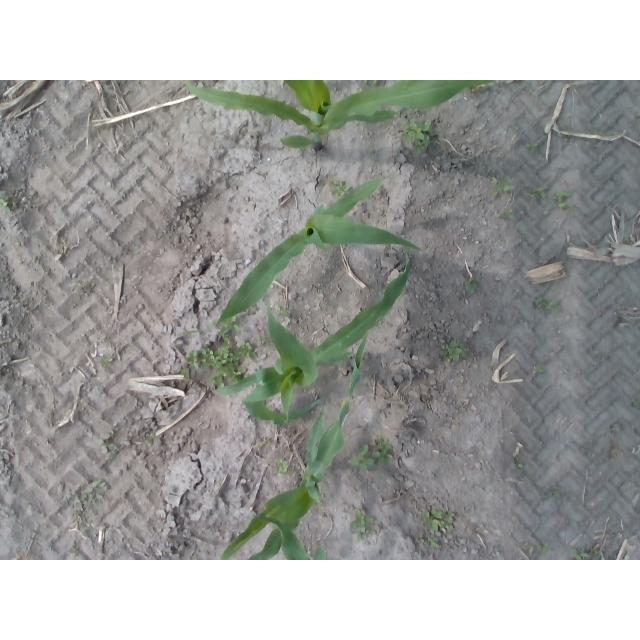Maize: (185, 176, 423, 333), (215, 254, 410, 427), (223, 334, 366, 560), (184, 80, 497, 153), (253, 514, 327, 560)
Weeds: (187, 341, 258, 388), (401, 117, 435, 155), (350, 508, 379, 542), (423, 508, 456, 532), (80, 477, 106, 507), (210, 315, 241, 340), (440, 341, 470, 364), (350, 445, 374, 472), (550, 189, 578, 211), (371, 438, 393, 466), (534, 297, 562, 314), (492, 177, 513, 199), (570, 548, 603, 560), (330, 179, 350, 197), (276, 457, 294, 476), (463, 277, 481, 295), (274, 304, 292, 322), (97, 439, 117, 454), (528, 185, 548, 199), (99, 355, 113, 370), (500, 208, 516, 221), (1, 196, 12, 213), (537, 542, 551, 555), (425, 537, 439, 548), (145, 433, 156, 445), (526, 143, 539, 152), (535, 364, 545, 374), (547, 491, 561, 498), (514, 458, 522, 470), (180, 368, 189, 378), (362, 80, 378, 85), (633, 399, 640, 410)
